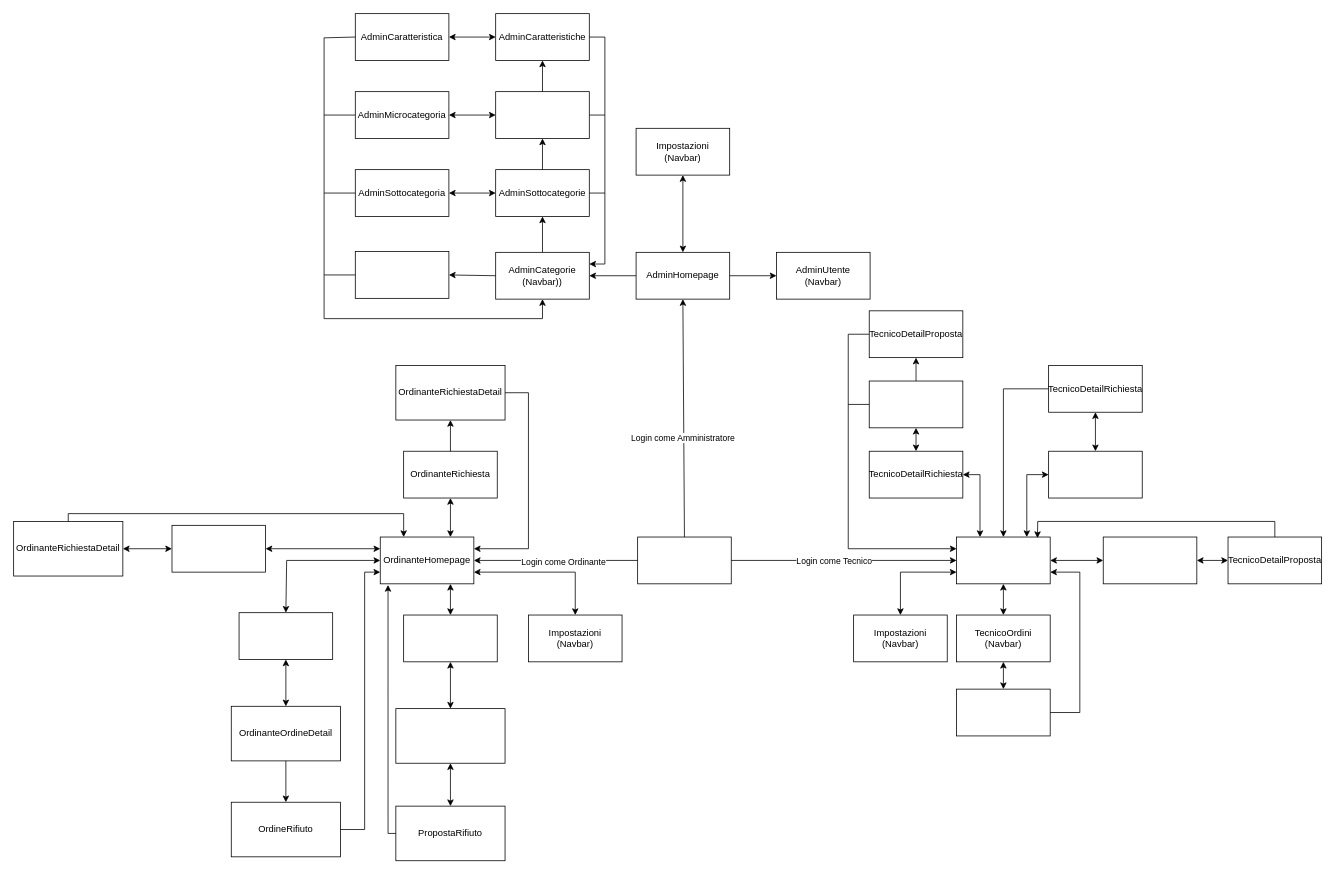
Image size: 1335x874. Some labels were removed from this diagram. The centre of each missing label's shape, as x and y in pixels:
AdminCategoria: pixel 402 274
AdminMicrocategorie: pixel 542 114
Login: pixel 684 560
OrdinanteOrdini (Navbar): pixel 285 635
OrdinantePropostaDetail: pixel 450 735
OrdinanteProposte (Navbar): pixel 450 638
OrdinanteStorico (Navbar): pixel 218 548
TecnicoDetailOrdini: pixel 1003 712
TecnicoHomepage: pixel 1003 560
TecnicoProposta: pixel 915 404
TecnicoProposte (Navbar): pixel 1149 560
TecnicoRichieste (Navbar): pixel 1095 474
